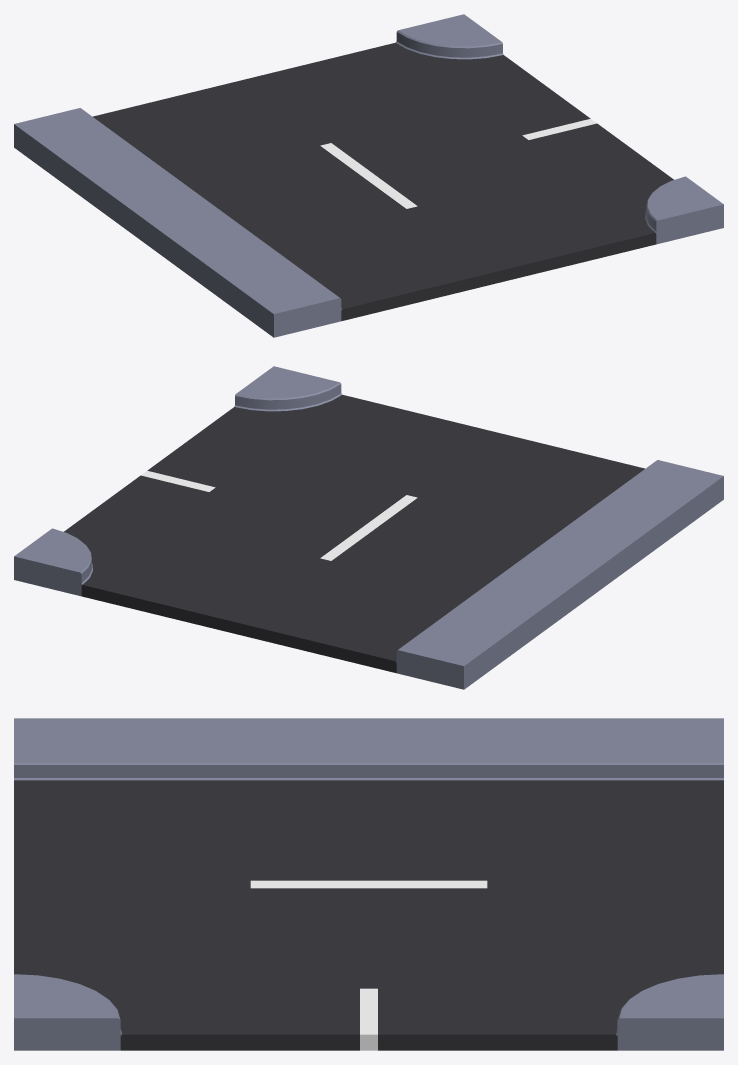
Rendered from road-t-cross.fbx.
3 renders of one model, top to bottom at view 1: azimuth 30°, elevation 25°; view 2: azimuth 150°, elevation 25°; view 3: azimuth 270°, elevation 25°, orthographic. The views are drawn at different scales.
Parts seen in each view (by area): view 1: road_T_Cross; view 2: road_T_Cross; view 3: road_T_Cross.
Boxes of the visible parts, left/top/right/bottom form: road_T_Cross: left=14, top=14, right=723, bottom=337; road_T_Cross: left=14, top=366, right=723, bottom=689; road_T_Cross: left=14, top=718, right=723, bottom=1050.
Size of the model in its own units: 400 by 400 by 20.
